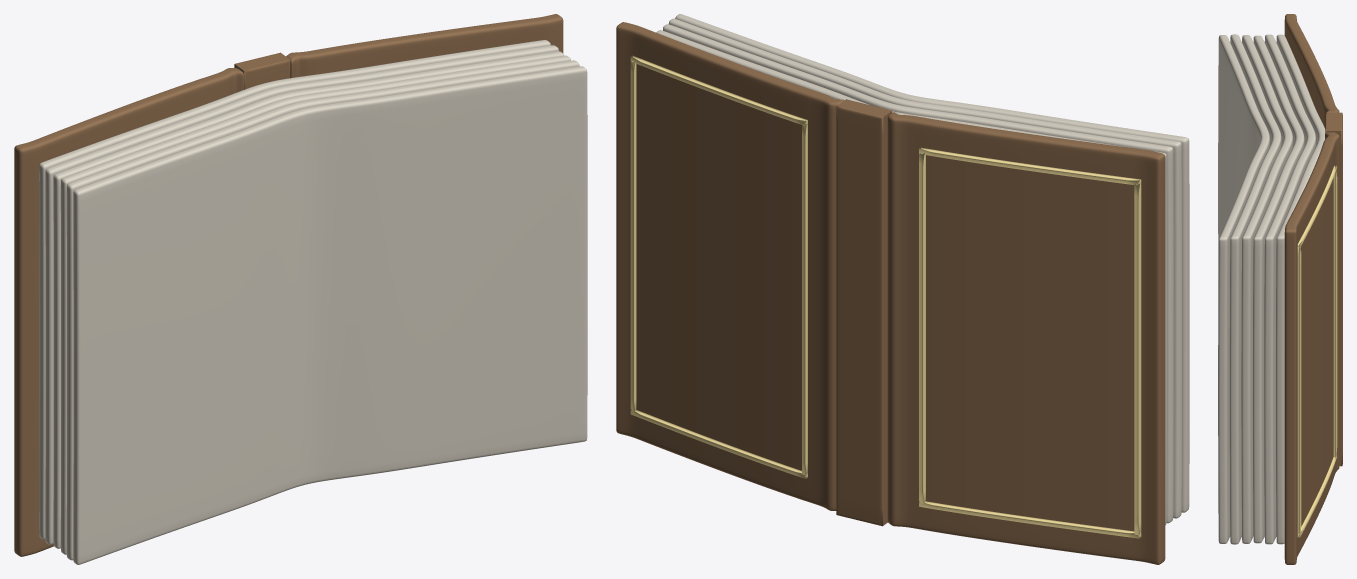
The model's file is community_canvas_book_clay.glb.
3 renders of one model, left to right at view 1: azimuth 30°, elevation 25°; view 2: azimuth 150°, elevation 25°; view 3: azimuth 270°, elevation 25°, orthographic. The views are drawn at different scales.
Parts seen in each view (by area): view 1: PageStack_5, Cover_Left, PageStack_1, Cover_Right, PageStack_4, PageStack_0, PageStack_2, PageStack_3, Spine; view 2: Cover_Left, Cover_Right, Spine, Gold_Border_Left, PageStack_4, Gold_Border_Right, PageStack_3, PageStack_5, PageStack_2; view 3: Cover_Right, PageStack_5, PageStack_4, PageStack_1, PageStack_3, PageStack_2, PageStack_0, Gold_Border_Right, Cover_Left, Spine.
Part boxes in pixels (<box>): PageStack_5: <box>73,66,587,564</box>; Cover_Left: <box>14,68,243,556</box>; PageStack_1: <box>45,45,558,544</box>; Cover_Right: <box>286,14,563,78</box>; PageStack_4: <box>66,60,579,560</box>; PageStack_0: <box>39,40,550,539</box>; PageStack_2: <box>53,51,564,548</box>; PageStack_3: <box>60,55,570,554</box>; Spine: <box>234,52,290,89</box>; Cover_Left: <box>887,112,1165,564</box>; Cover_Right: <box>616,22,844,510</box>; Spine: <box>836,99,892,526</box>; Gold_Border_Left: <box>919,147,1141,538</box>; PageStack_4: <box>668,18,1181,518</box>; Gold_Border_Right: <box>630,55,807,478</box>; PageStack_3: <box>663,24,1173,523</box>; PageStack_5: <box>675,14,1189,512</box>; PageStack_2: <box>656,30,1167,524</box>; Cover_Right: <box>1284,132,1339,564</box>; PageStack_5: <box>1218,35,1269,543</box>; PageStack_4: <box>1229,34,1281,544</box>; PageStack_1: <box>1264,34,1315,544</box>; PageStack_3: <box>1241,35,1292,543</box>; PageStack_2: <box>1253,35,1304,543</box>; PageStack_0: <box>1276,34,1325,544</box>; Gold_Border_Right: <box>1297,165,1337,537</box>; Cover_Left: <box>1284,14,1339,128</box>; Spine: <box>1325,112,1342,466</box>.
Bounding box in the file's own units: 4.24 × 3.04 × 1.03.
